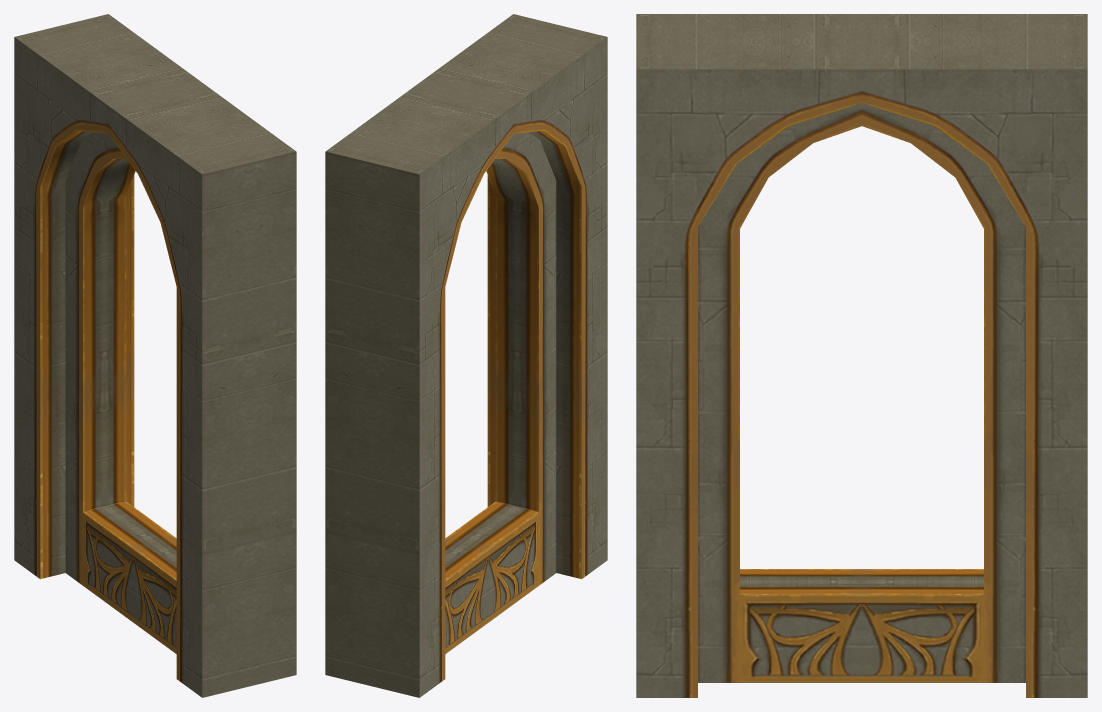
The model's file is Battle03_Wall_02.FBX.
3 views of the same model, side by side, from view 1: azimuth 30°, elevation 25°; view 2: azimuth 150°, elevation 25°; view 3: azimuth 270°, elevation 25° (orthographic). The views are drawn at different scales.
Parts seen in each view (by area): view 1: Battle03_Wall_02; view 2: Battle03_Wall_02; view 3: Battle03_Wall_02.
Part boxes in pixels (left/top/right/bottom): Battle03_Wall_02: left=14, top=14, right=296, bottom=697; Battle03_Wall_02: left=325, top=14, right=607, bottom=697; Battle03_Wall_02: left=636, top=14, right=1087, bottom=697.
Size of the model in its own units: 2.46 by 13.1 by 8.52.
